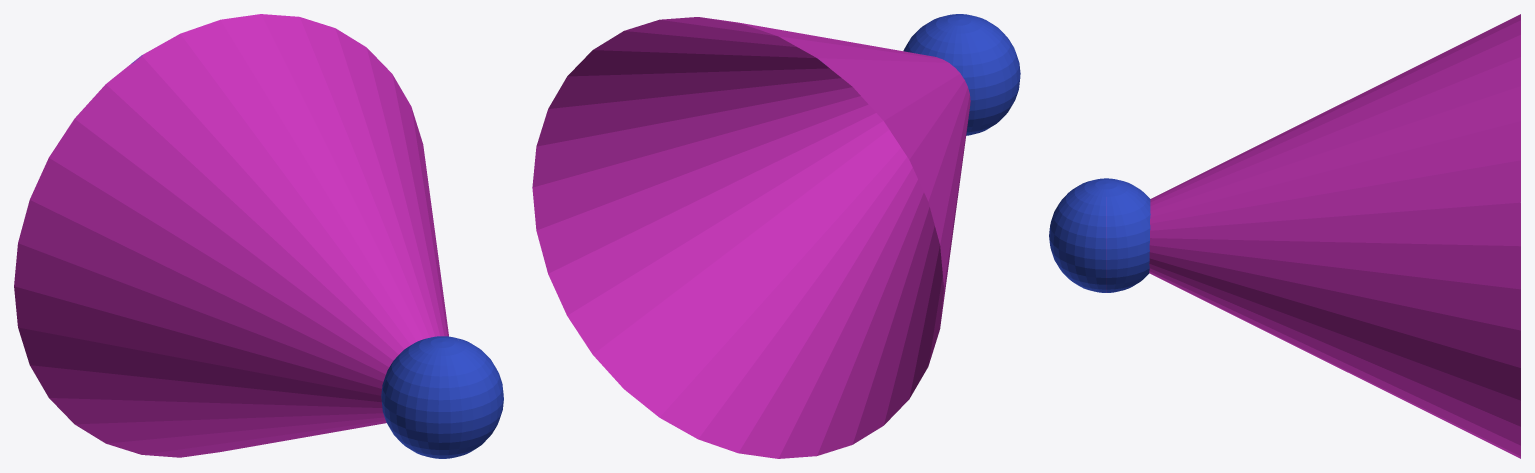
Rendered from RotateEnemy.obj.
The picture shows the model from 3 angles, left to right: view 1: azimuth 30°, elevation 25°; view 2: azimuth 150°, elevation 25°; view 3: azimuth 270°, elevation 25°; orthographic projection. The views are drawn at different scales.
Visible parts, largest first — view 1: 円錐, 球.001; view 2: 円錐, 球.001; view 3: 円錐, 球.001.
Part boxes in pixels (x1,y1,x2,y2): 円錐: (14, 14, 448, 457); 球.001: (381, 336, 503, 458); 円錐: (532, 17, 970, 458); 球.001: (903, 14, 1020, 135); 円錐: (1149, 14, 1520, 458); 球.001: (1049, 178, 1150, 292).
Size of the model in its own units: 0.7231 by 0.7231 by 0.7662.
1 material, 1 textured.
